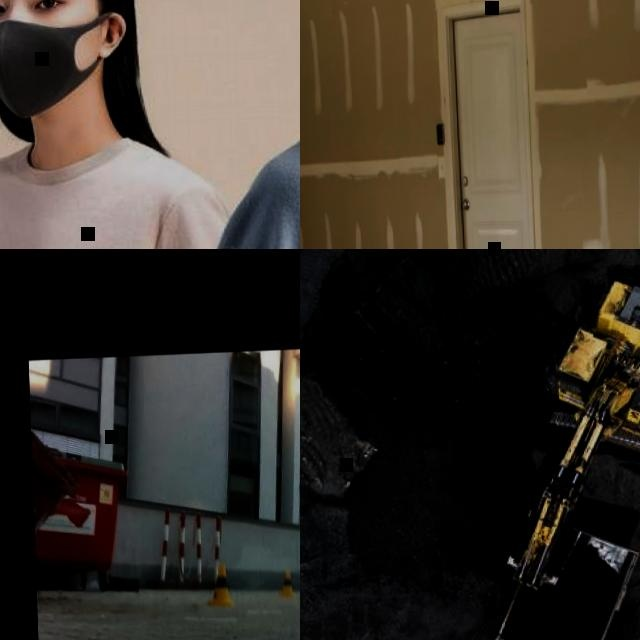Mask: (0, 9, 127, 122)
NO-Safety Vest: (0, 149, 190, 249)
Person: (0, 0, 242, 249), (175, 0, 300, 249)
Safety Cone: (206, 564, 234, 606), (280, 571, 296, 596)
machinery: (478, 264, 640, 597), (472, 515, 640, 640)
